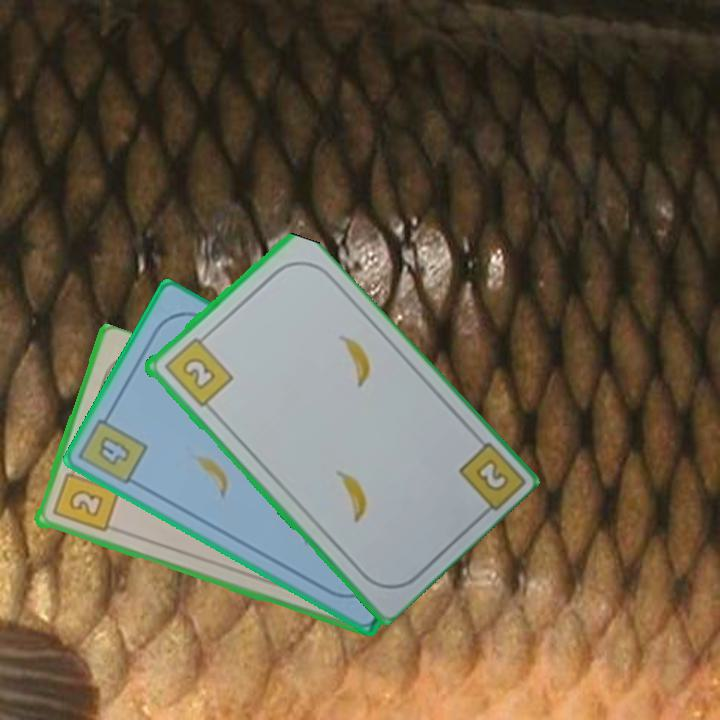2b: (160, 330, 235, 410), (49, 462, 121, 536), (471, 455, 511, 495)
4b: (78, 407, 151, 488)
